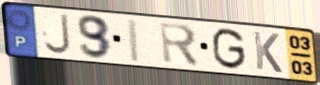9: (75, 14, 114, 61)
G: (211, 27, 248, 71)
I: (125, 17, 143, 65)
J: (42, 12, 73, 56)
K: (251, 29, 284, 75)
R: (158, 20, 202, 69)
